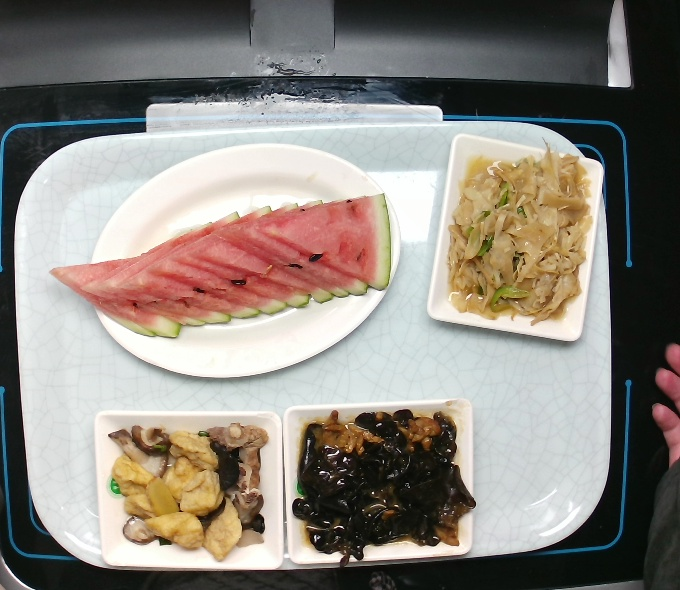wcq-LuSun: (441, 144, 596, 332)
wcq-MuErChaoRou: (302, 415, 465, 554)
wcq-XiGua: (37, 186, 401, 339)
wcq-YouPaoPaiGu: (103, 418, 278, 574)
